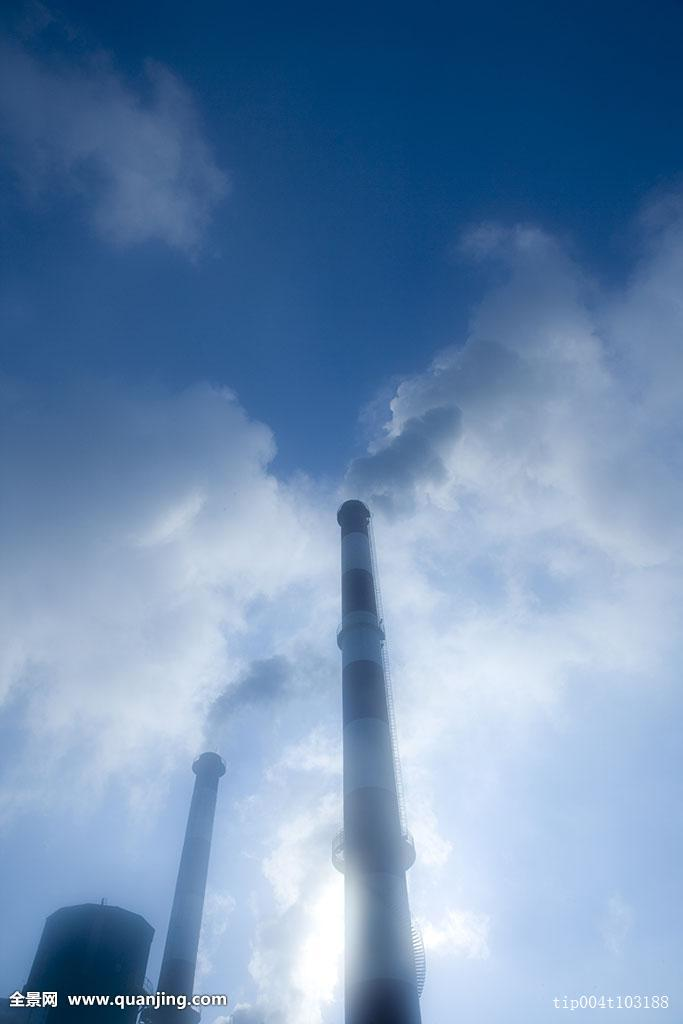dust: (325, 358, 514, 541), (167, 638, 307, 794)
